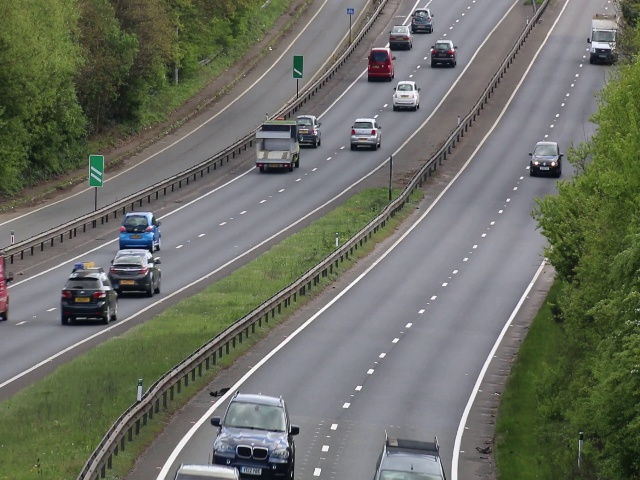car: (208, 394, 296, 478), (60, 271, 120, 325), (374, 438, 447, 480), (253, 114, 303, 175), (107, 249, 164, 298), (118, 211, 163, 253), (589, 11, 620, 66), (528, 139, 564, 179), (426, 37, 458, 76), (350, 116, 383, 151), (367, 46, 396, 84), (293, 115, 323, 147), (392, 81, 419, 111), (410, 6, 437, 35), (387, 24, 415, 51)
